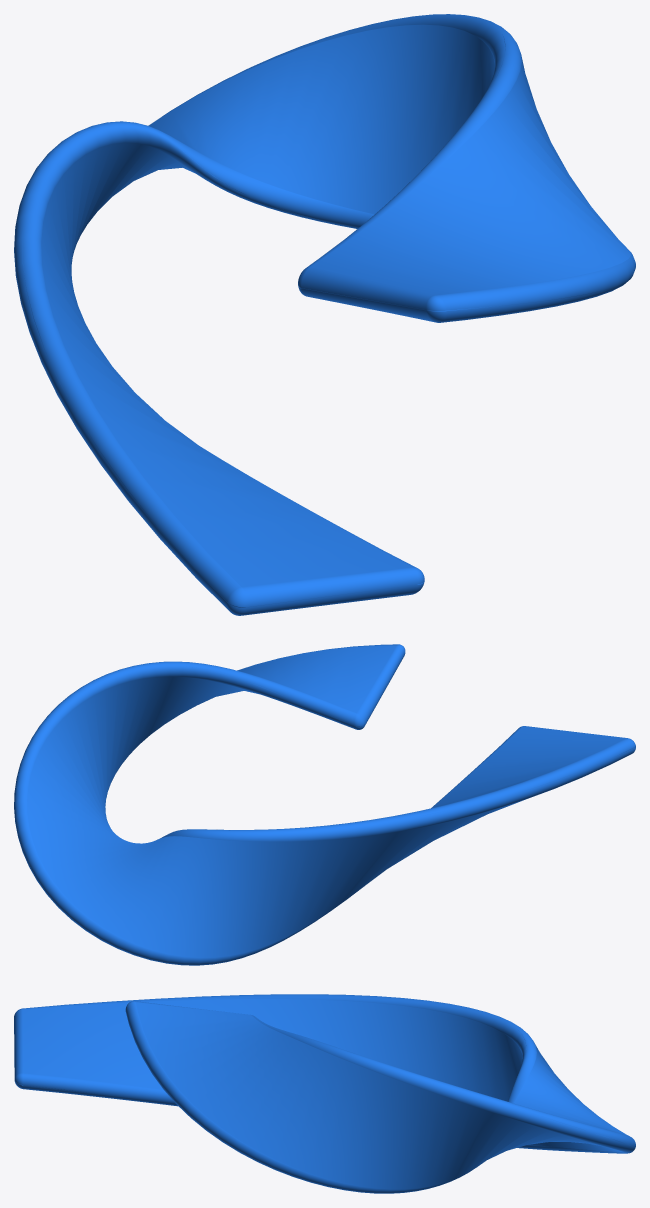
3 views of the same model, one above another, from view 1: azimuth 30°, elevation 25°; view 2: azimuth 150°, elevation 25°; view 3: azimuth 270°, elevation 25° (orthographic). The views are drawn at different scales.
Visible parts, largest first — view 1: GN Instance; view 2: GN Instance; view 3: GN Instance.
Part boxes in pixels (x1,y1,x2,y2): GN Instance: [14, 14, 635, 615]; GN Instance: [14, 644, 635, 965]; GN Instance: [14, 994, 635, 1193].
Bounding box in the file's own units: 0.245 × 0.1166 × 0.3537.
